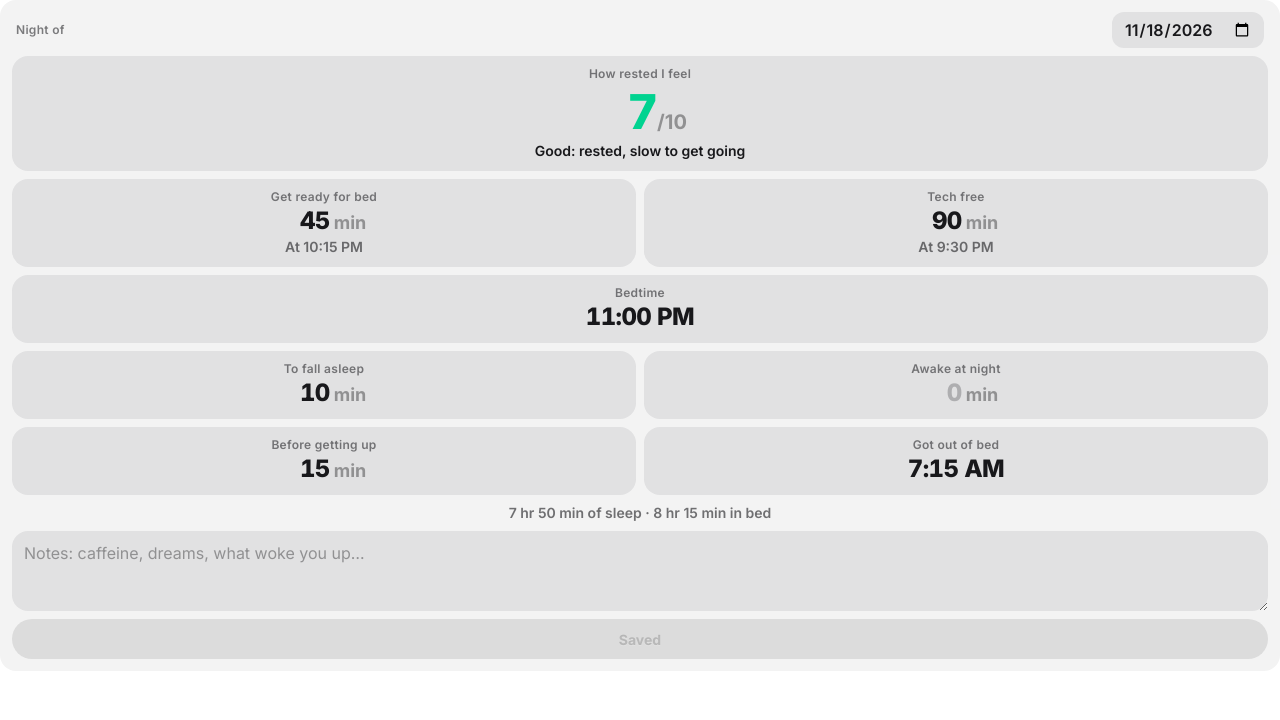
Scenario: NightForm › undoes unsaved changes back to the saved night
The image size is (1280, 720).
Check: the button "Undo changes" is not shown
Replace the text in the field named "How rested from 0 to 10" with "3" at (625, 112), box [593,82,657,141]
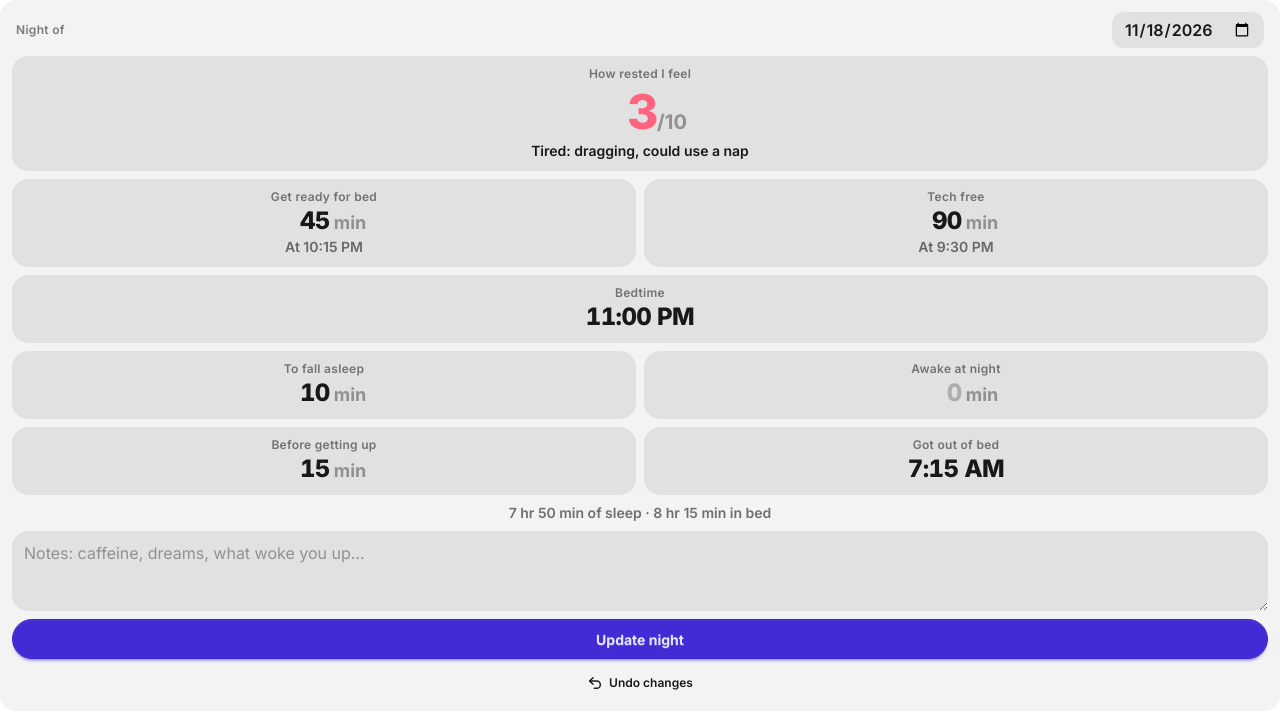
Type "coffee late" into the text box labelled "Notes" at (640, 571), box [12,531,1268,611]
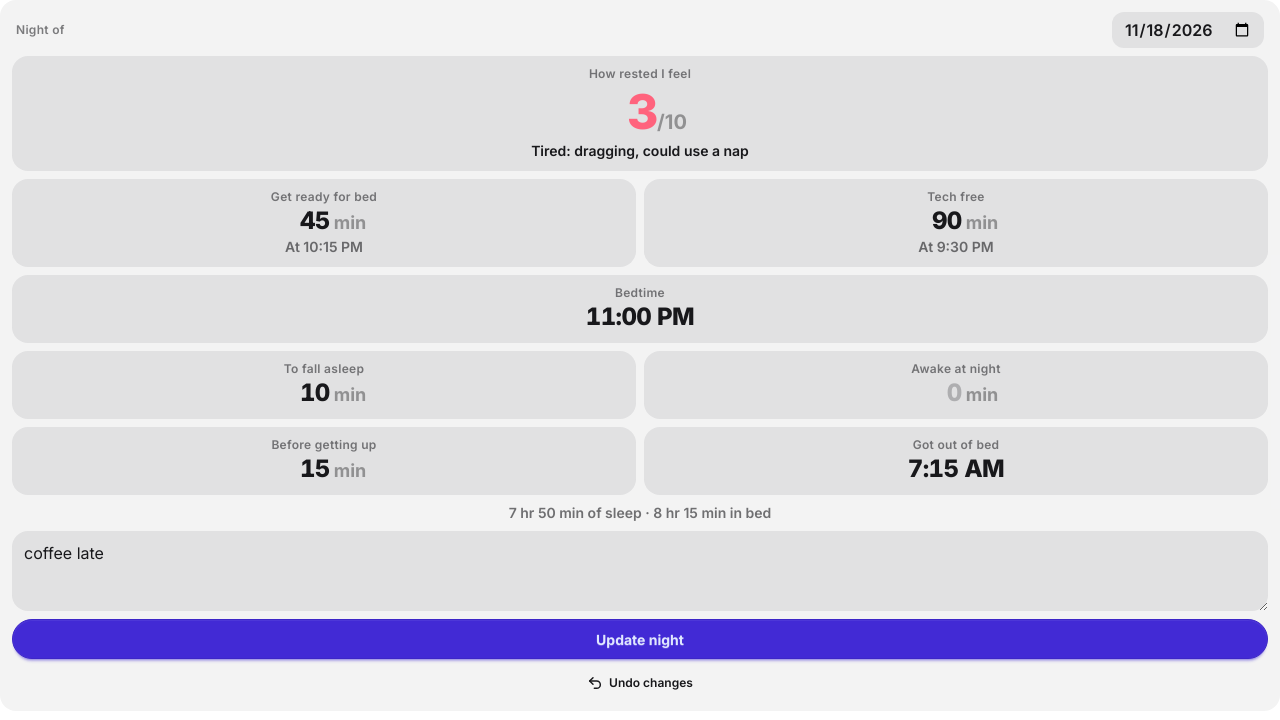
Click the button "Undo changes" at (640, 683), box [574,667,706,699]
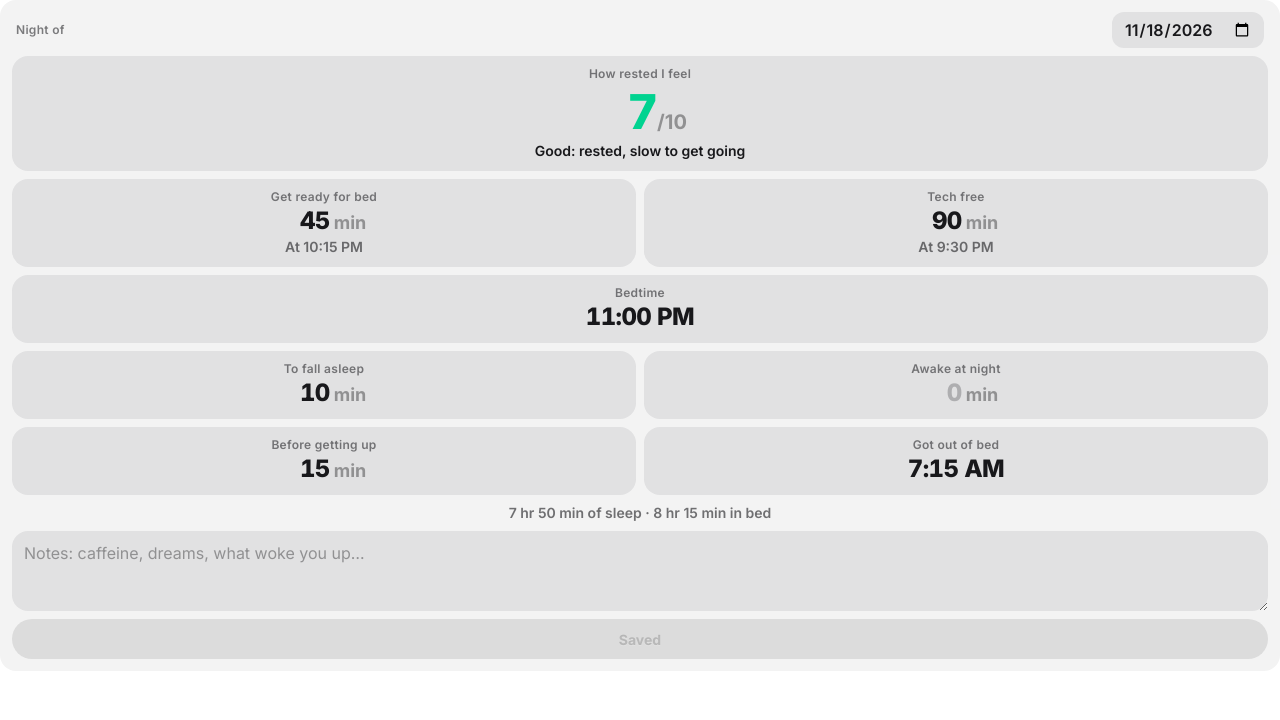
Check: the field named "How rested from 0 to 10" holds "7", box [593,82,657,141]
Check: the text box labelled "Notes" is empty, box [12,531,1268,611]
Check: the button "Saved" is disabled, box [12,619,1268,659]
